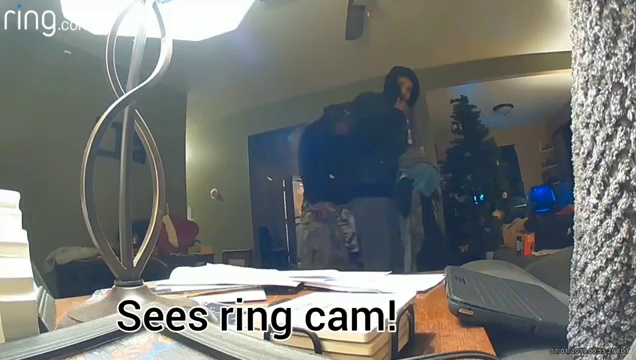face: (391, 74, 416, 100)
